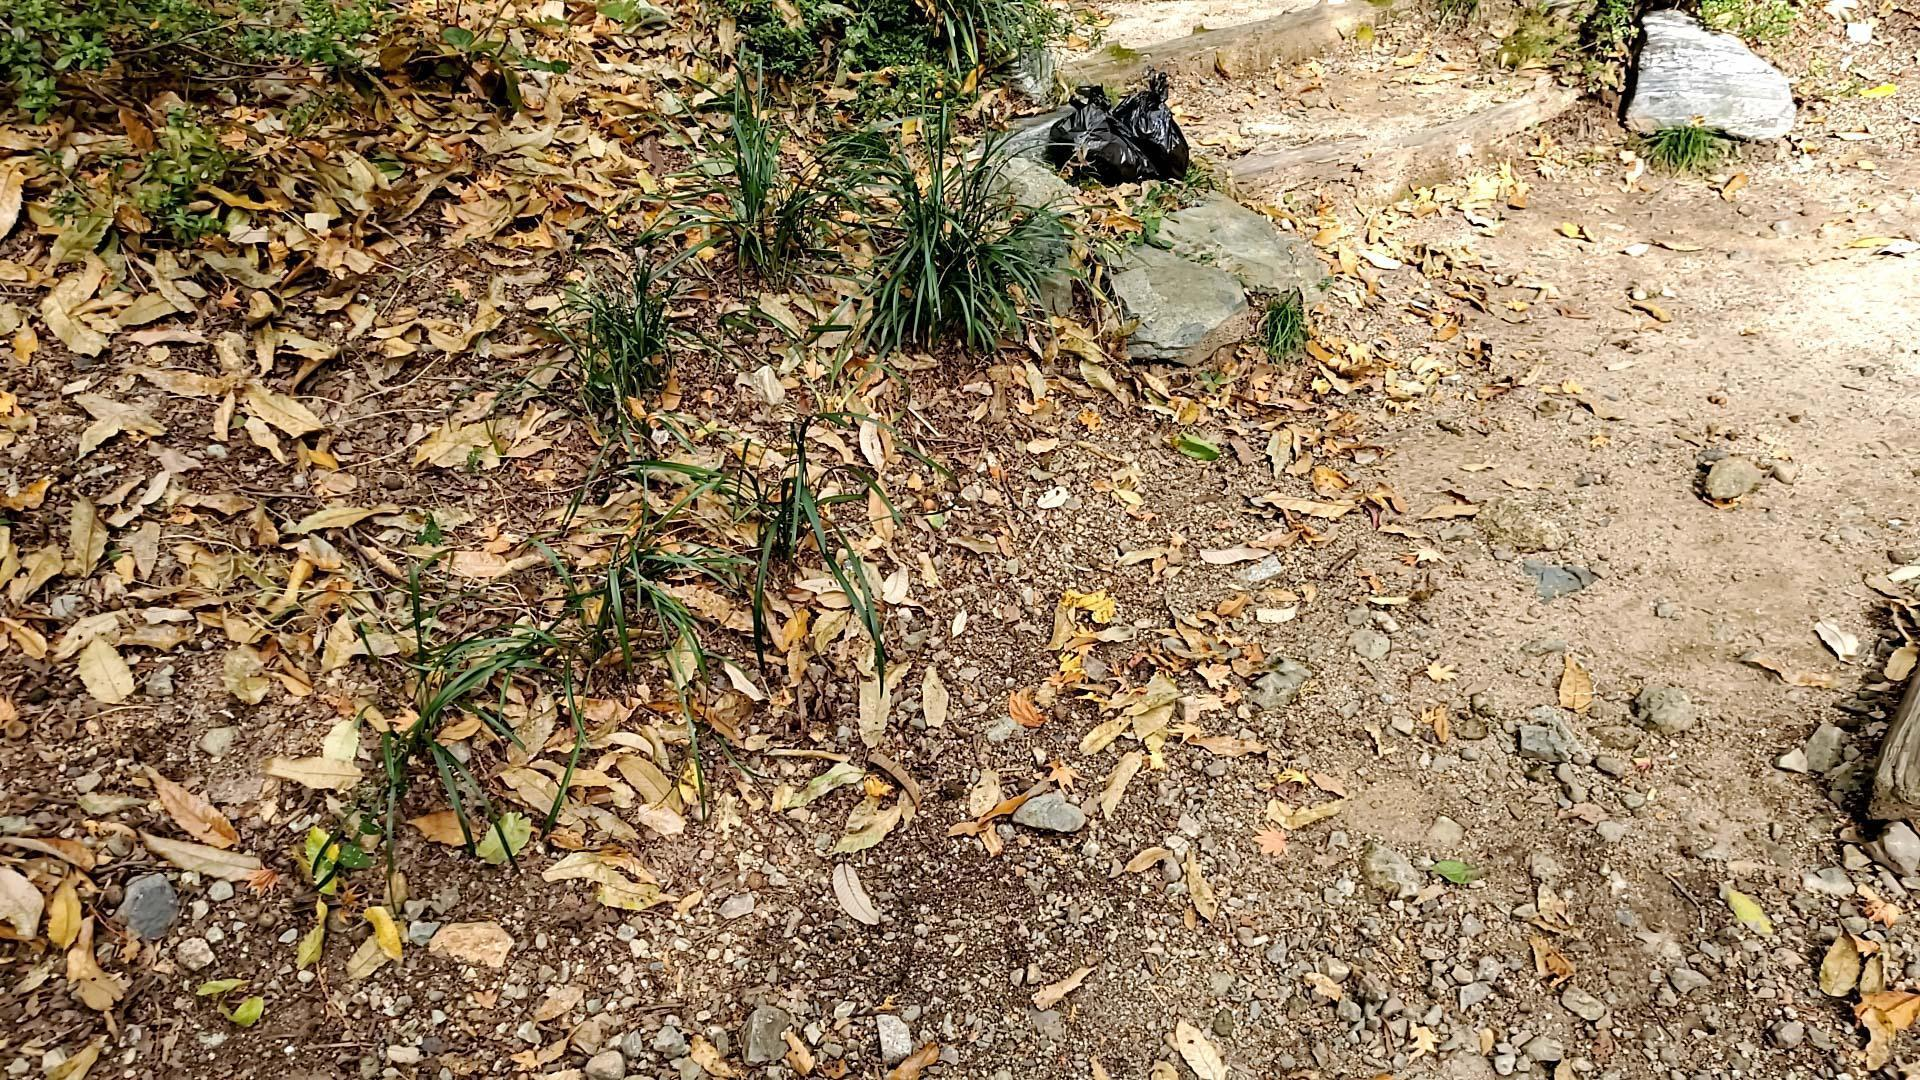black_bag: (1043, 80, 1156, 187), (1112, 69, 1193, 185)
